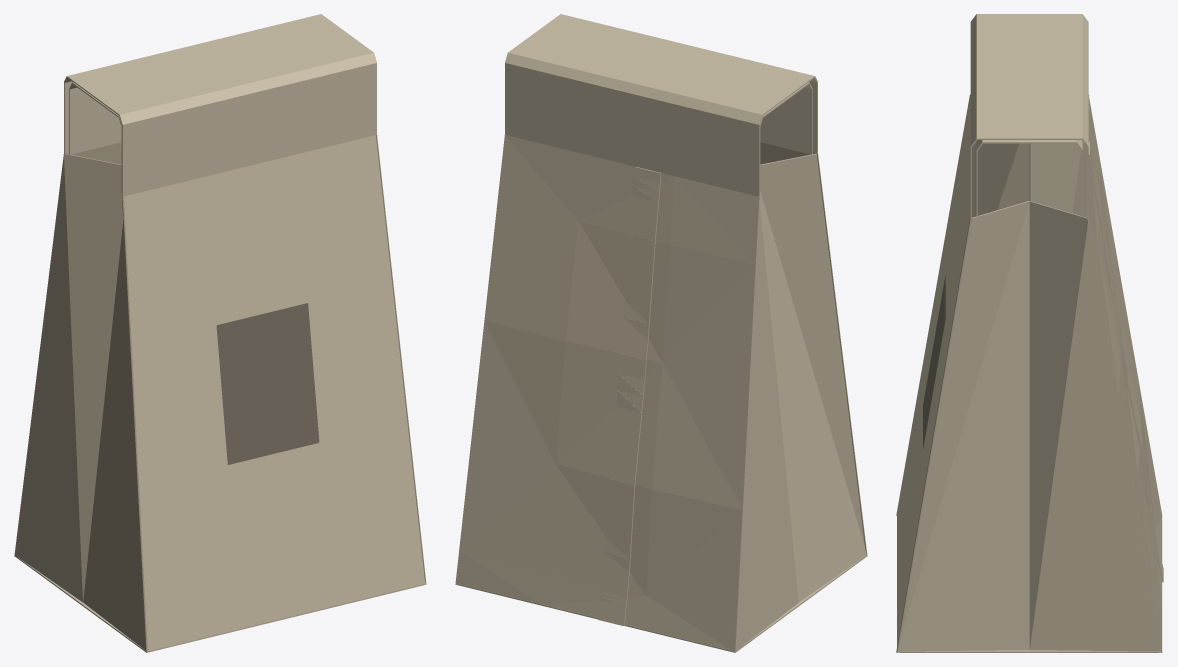
File: sugar-packet-bag-80c88759bf26.glb
3 views of the same model, side by side, from view 1: azimuth 30°, elevation 25°; view 2: azimuth 150°, elevation 25°; view 3: azimuth 270°, elevation 25° (orthographic).
Visible parts, largest first — view 1: paper, cover-print; view 2: paper; view 3: paper, cover-print.
Boxes of the visible parts, x1,y1,x2,y2 form: paper: (14,14,426,652); cover-print: (216,303,319,464); paper: (455,14,867,652); paper: (896,14,1163,652); cover-print: (923,275,945,448).
Bounding box in the file's own units: 0.11 × 0.1901 × 0.0907.
